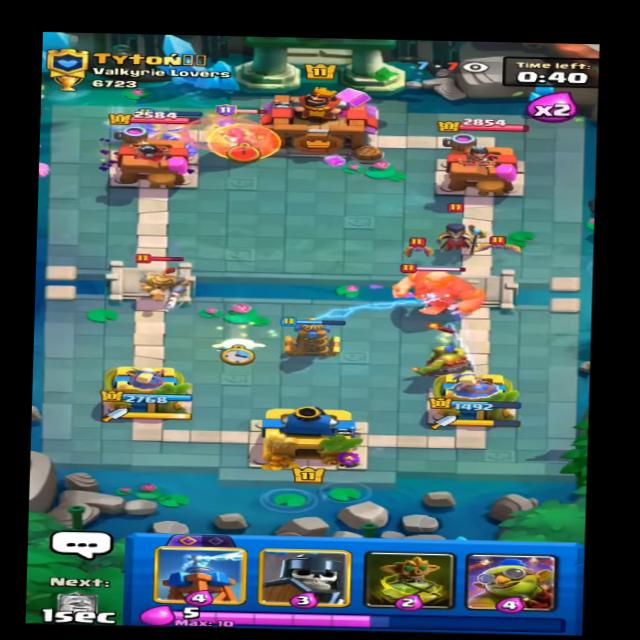bats: (477, 234, 526, 254), (398, 238, 443, 258)
evo-wizard: (204, 105, 282, 161)
giant: (388, 266, 496, 316)
night-witch: (432, 208, 481, 263)
prince: (136, 248, 199, 312)
